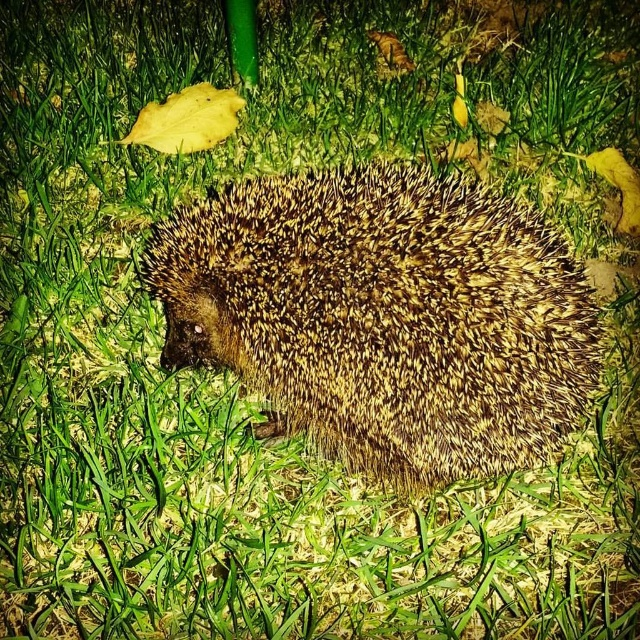Hedgehog: (132, 162, 612, 497)
